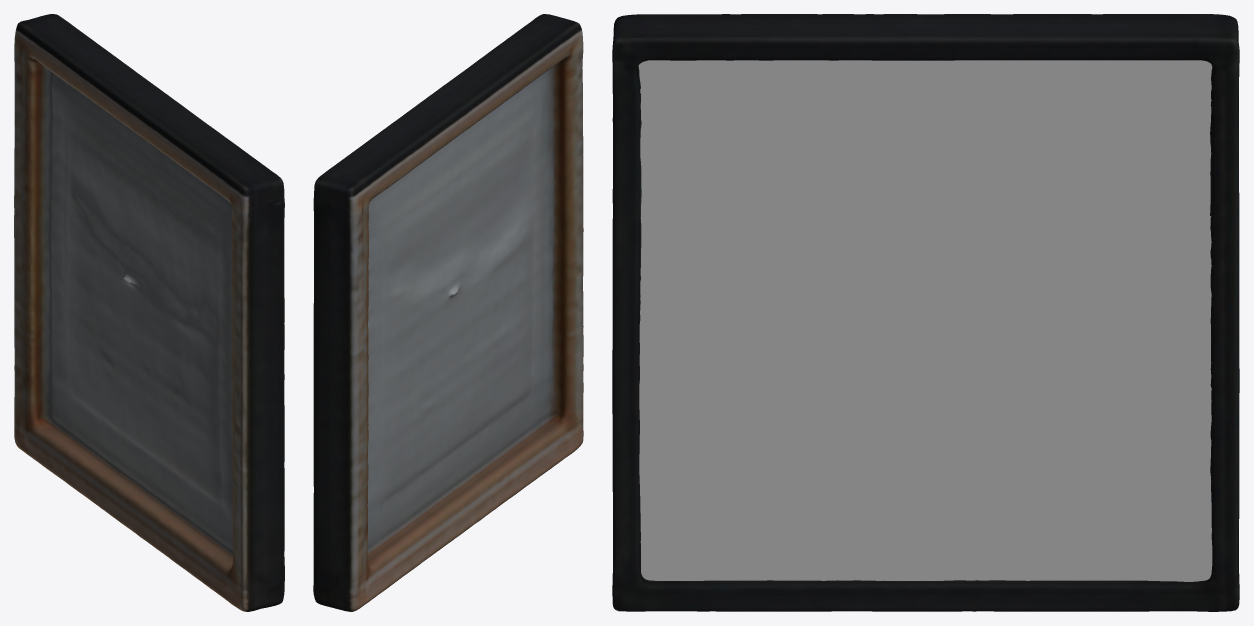
File: canvas.gltf
The picture shows the model from 3 angles, left to right: view 1: azimuth 30°, elevation 25°; view 2: azimuth 150°, elevation 25°; view 3: azimuth 270°, elevation 25°; orthographic projection. The views are drawn at different scales.
Visible parts, largest first — view 1: high_poly; view 2: high_poly; view 3: Plane, high_poly.
Part boxes in pixels (left/top/right/bottom): high_poly: left=14, top=14, right=284, bottom=611; high_poly: left=313, top=14, right=583, bottom=611; Plane: left=638, top=60, right=1212, bottom=581; high_poly: left=612, top=14, right=1239, bottom=611.
Size of the model in its own units: 0.3954 by 3.72 by 3.67.
